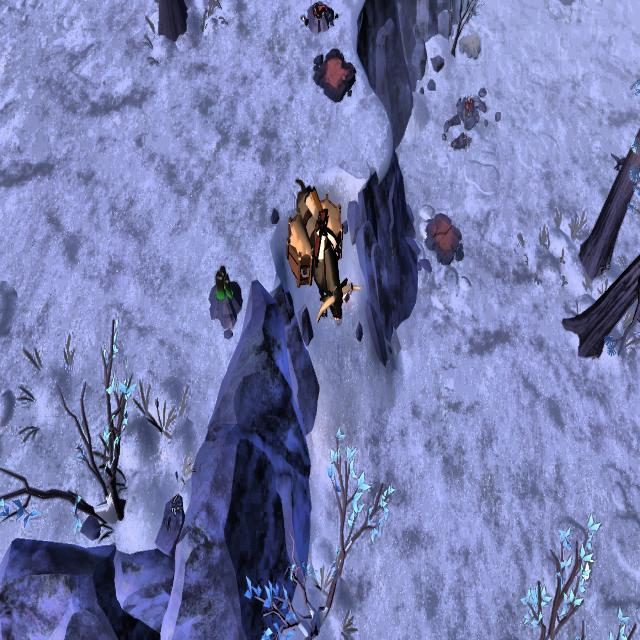ore_t3: (211, 261, 235, 303)
